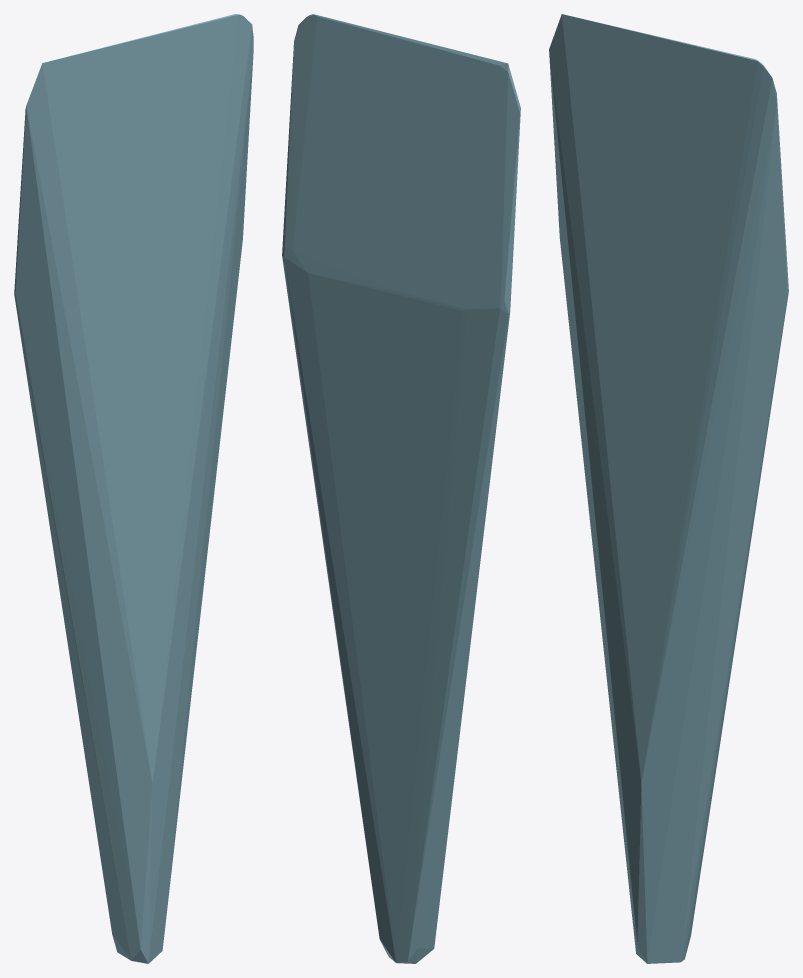
File: kitchenware_spatula_i02.glb
3 views of the same model, side by side, from view 1: azimuth 30°, elevation 25°; view 2: azimuth 150°, elevation 25°; view 3: azimuth 330°, elevation 25° (orthographic).
Visible parts, largest first — view 1: geometry_0; view 2: geometry_0; view 3: geometry_0.
Boxes of the visible parts, x1,y1,x2,y2 form: geometry_0: (14,14,253,963); geometry_0: (282,14,520,963); geometry_0: (549,14,788,963).
Bounding box in the file's own units: 0.1237 × 0.4789 × 0.0296.
